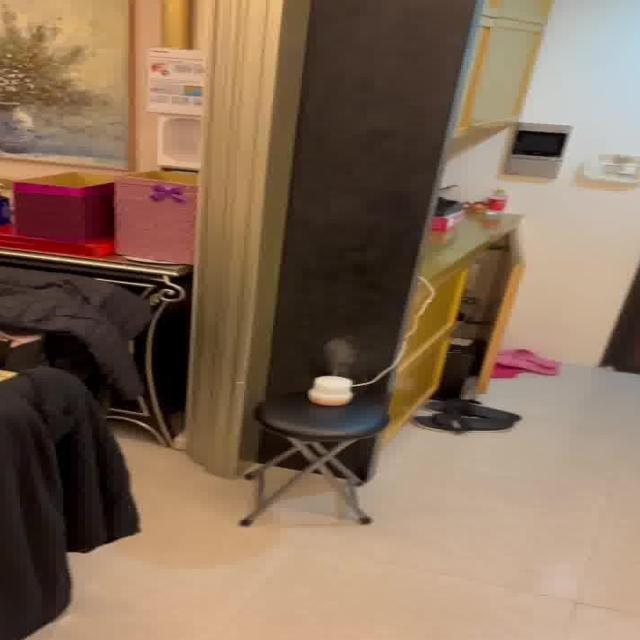fire: (316, 334, 364, 375)
